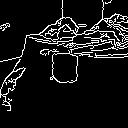cube: (44, 48, 82, 89)
